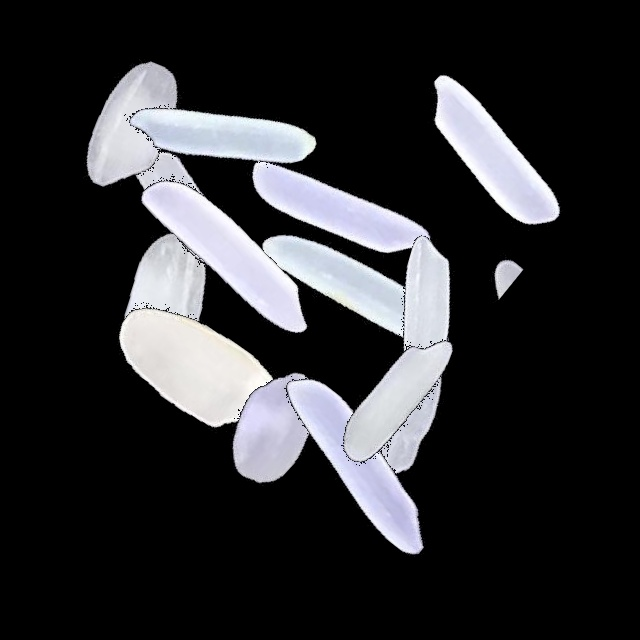Broken: (303, 171, 473, 421), (299, 366, 549, 534), (334, 240, 584, 324)
Full: (231, 167, 481, 417), (213, 79, 463, 329), (39, 178, 289, 428), (70, 244, 320, 494), (149, 303, 399, 553), (365, 28, 615, 278), (53, 75, 303, 325), (104, 132, 354, 382), (230, 338, 480, 588), (6, 2, 256, 252), (272, 273, 522, 523), (97, 11, 347, 261)
